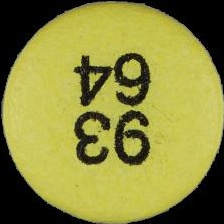42291-721: (0, 0, 224, 224)
